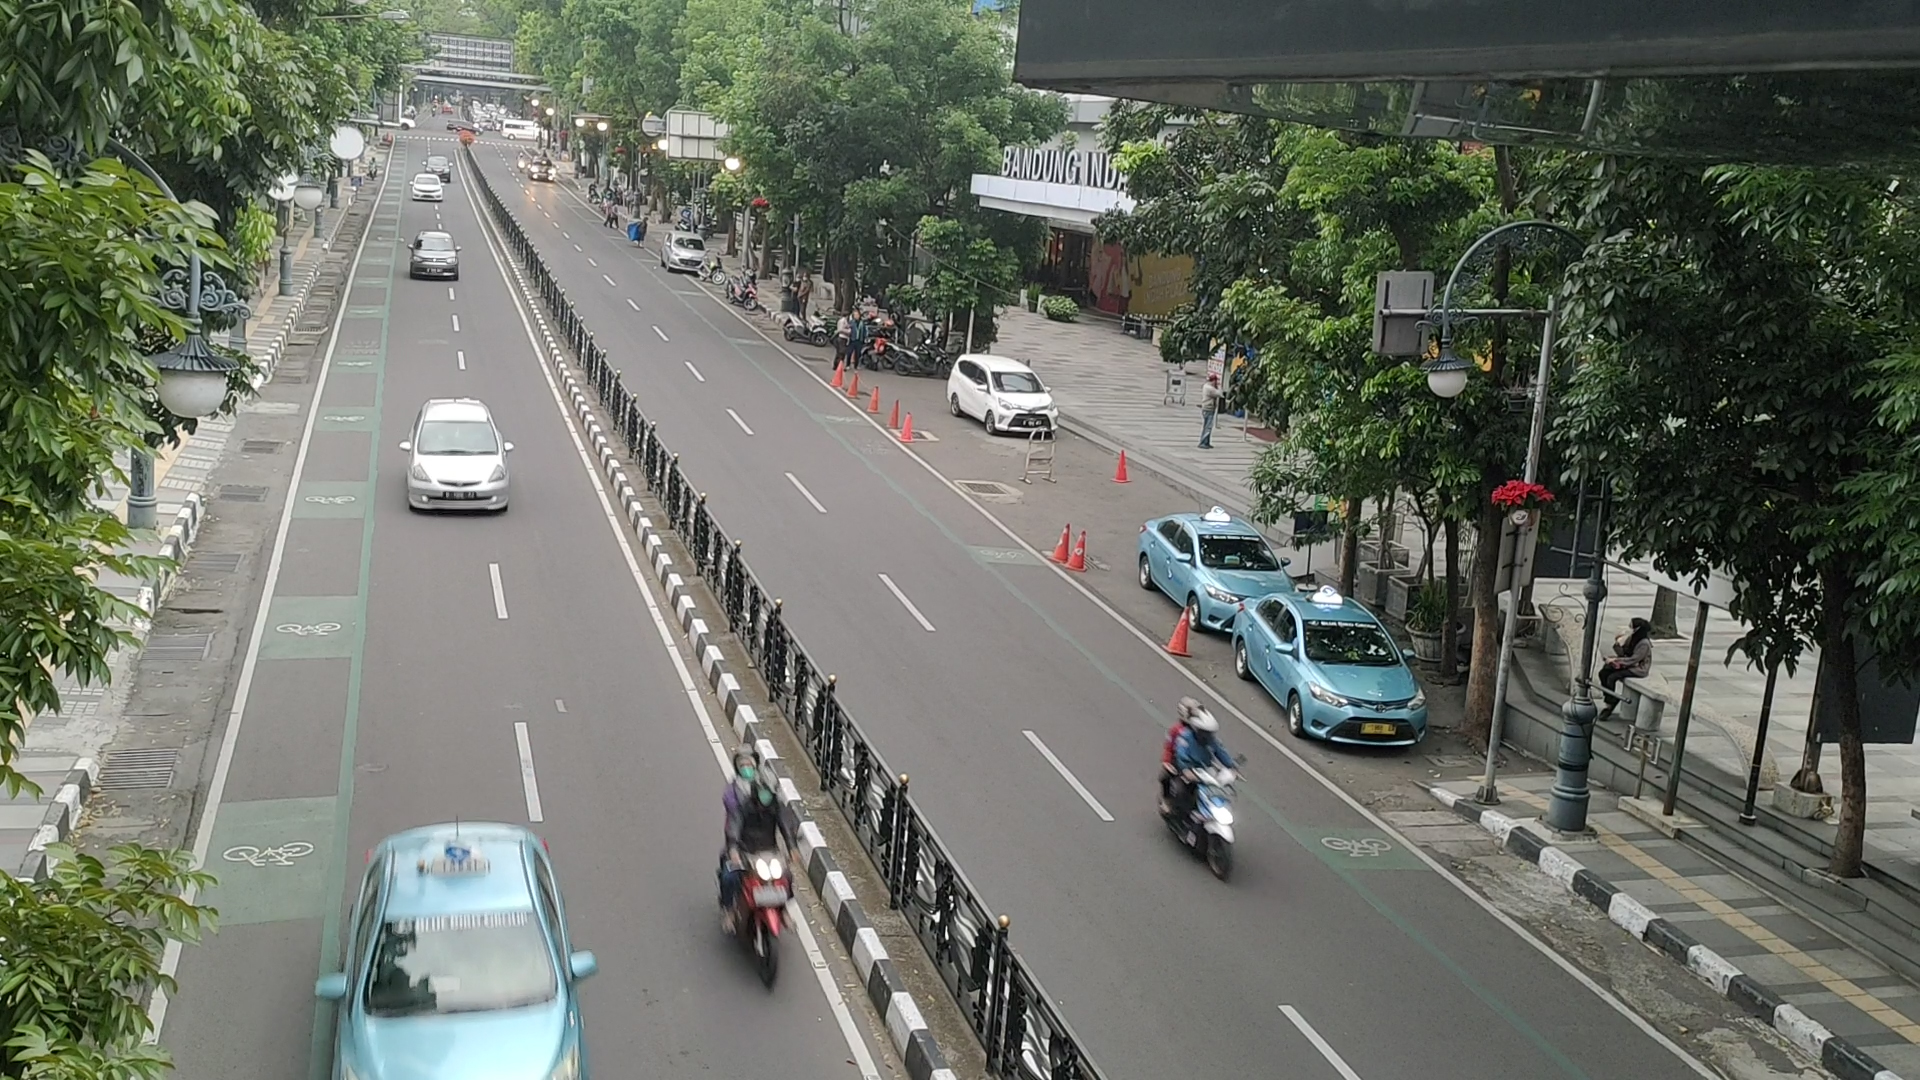mobil: (309, 905, 600, 1080), (1288, 618, 1427, 756), (411, 417, 505, 517), (984, 367, 1060, 440)
motor: (717, 746, 810, 992), (1150, 694, 1250, 894)
